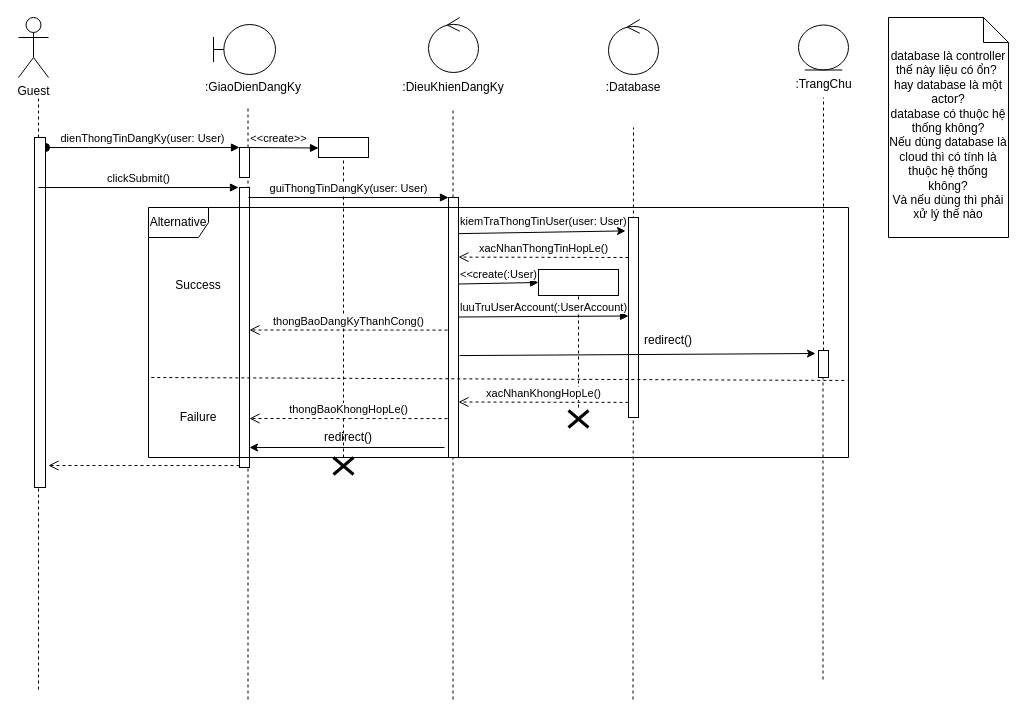
Image size: 1026x718. Some labels were removed from this diagram. The shapes that lost their labels are listed below. From the top down, each one's centre as x and y in pixels, then its label:
the point at 343,147: :User
the point at 578,282: :UserAccount
